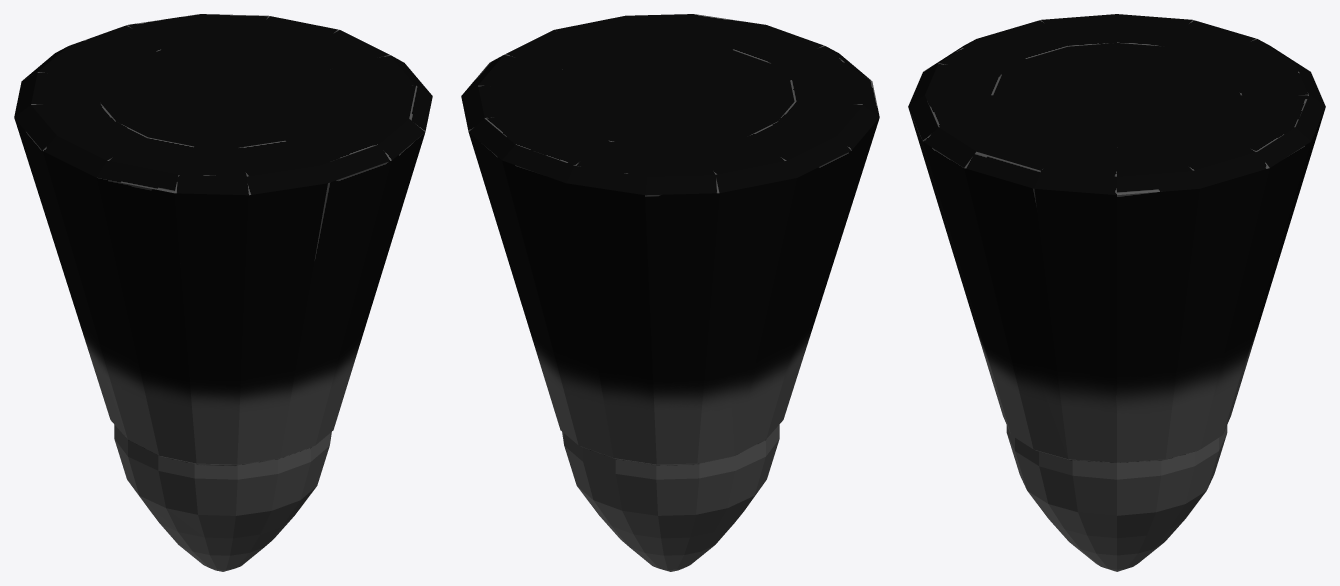
3 views of the same model, side by side, from view 1: azimuth 30°, elevation 25°; view 2: azimuth 150°, elevation 25°; view 3: azimuth 270°, elevation 25° (orthographic).
Parts seen in each view (by area): view 1: bleadsp2_C8B5D626F52D4026882C9D692D78199E, bleadsp2_C8B5D626F52D4026882C9D692D78199E.001; view 2: bleadsp2_C8B5D626F52D4026882C9D692D78199E, bleadsp2_C8B5D626F52D4026882C9D692D78199E.001; view 3: bleadsp2_C8B5D626F52D4026882C9D692D78199E, bleadsp2_C8B5D626F52D4026882C9D692D78199E.001.
Part boxes in pixels (<box>): bleadsp2_C8B5D626F52D4026882C9D692D78199E: <box>14,14,432,571</box>; bleadsp2_C8B5D626F52D4026882C9D692D78199E.001: <box>114,426,330,570</box>; bleadsp2_C8B5D626F52D4026882C9D692D78199E: <box>461,14,879,571</box>; bleadsp2_C8B5D626F52D4026882C9D692D78199E.001: <box>563,425,779,571</box>; bleadsp2_C8B5D626F52D4026882C9D692D78199E: <box>908,14,1325,571</box>; bleadsp2_C8B5D626F52D4026882C9D692D78199E.001: <box>1008,425,1227,571</box>.
Size of the model in its own units: 319 by 401 by 319.
